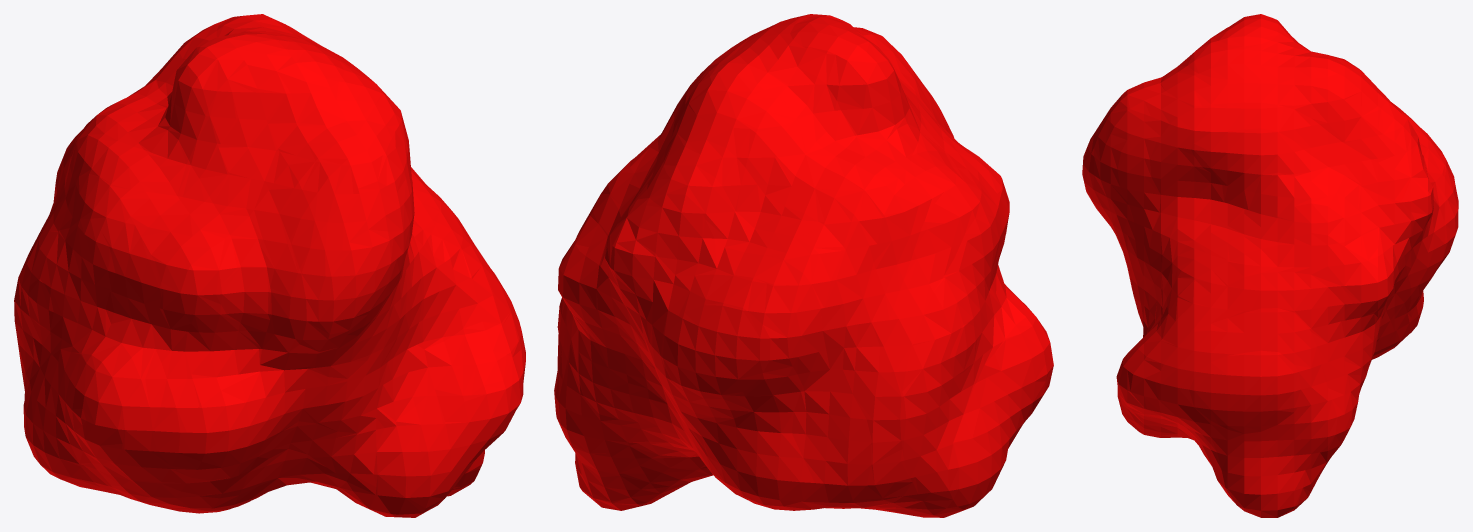
Rendered from yajL_coarse.dae.
3 views of the same model, side by side, from view 1: azimuth 30°, elevation 25°; view 2: azimuth 150°, elevation 25°; view 3: azimuth 270°, elevation 25° (orthographic). The views are drawn at different scales.
Visible parts, largest first — view 1: yajL; view 2: yajL; view 3: yajL.
Boxes of the visible parts, <box> form: yajL: <box>14,14,525,517</box>; yajL: <box>554,14,1053,517</box>; yajL: <box>1082,14,1458,517</box>.
Bounding box in the file's own units: 44.9 × 49.34 × 40.8.
